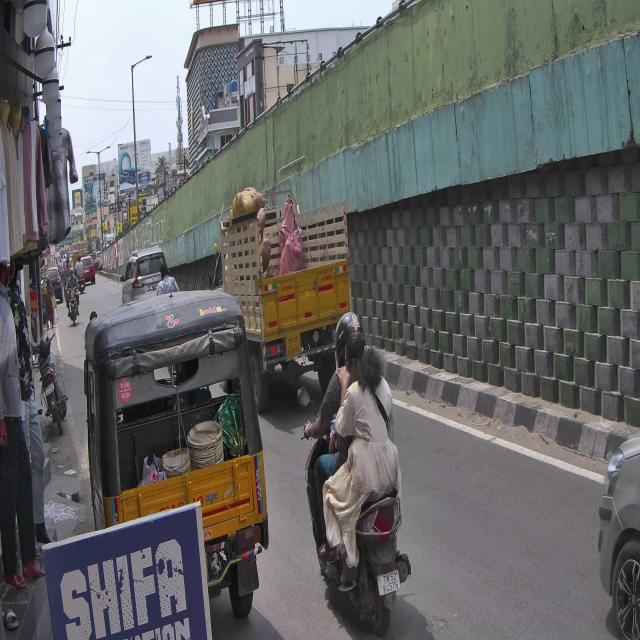double_rider: (298, 311, 412, 637)
